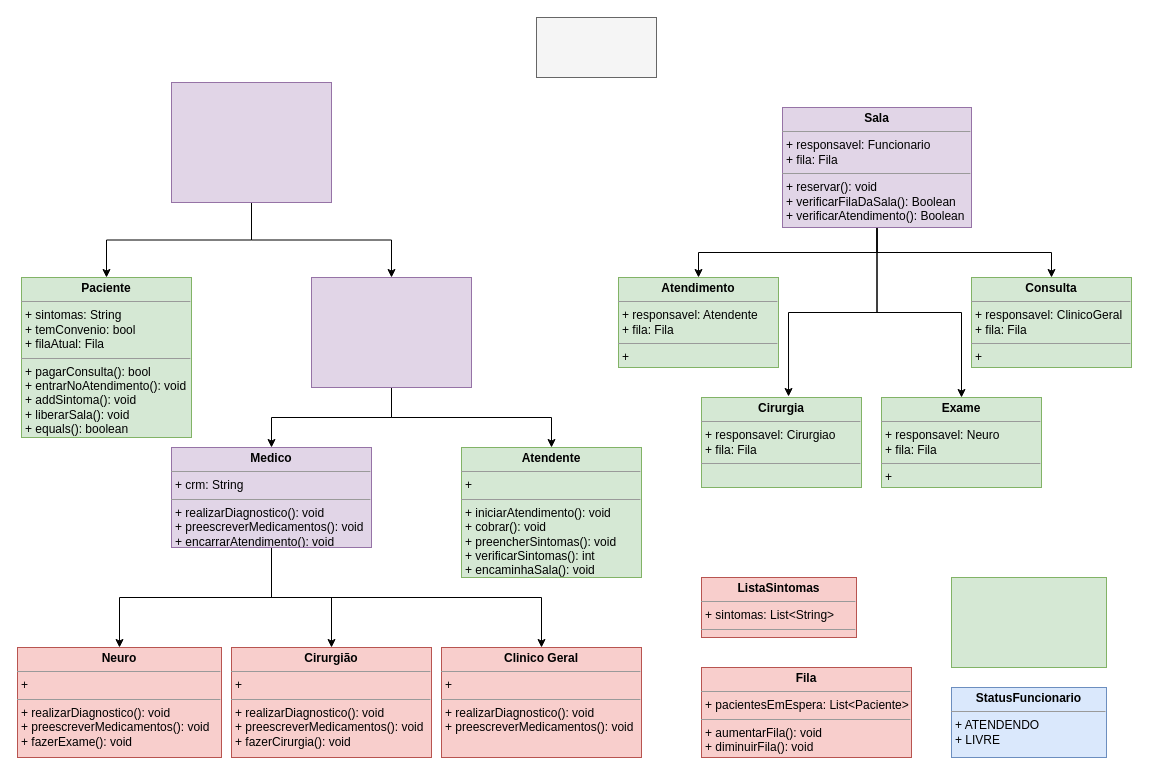
Image size: 1149x775. Some labels were removed from this diagram. The shapes that lost their labels are listed below. From the top down, each one's centre as x and y in pixels, then its label:
At point (596, 47): "POO - HOSPITAL".
At point (251, 142): "Pessoa + nome: String + cpf: String + contato: Contato".
At point (391, 332): "Funcionario + salario: Double + id: String + status: Status + equals(): boolean".
At point (1028, 622): "Contato + email: String + telefone: String + endereco: String".
